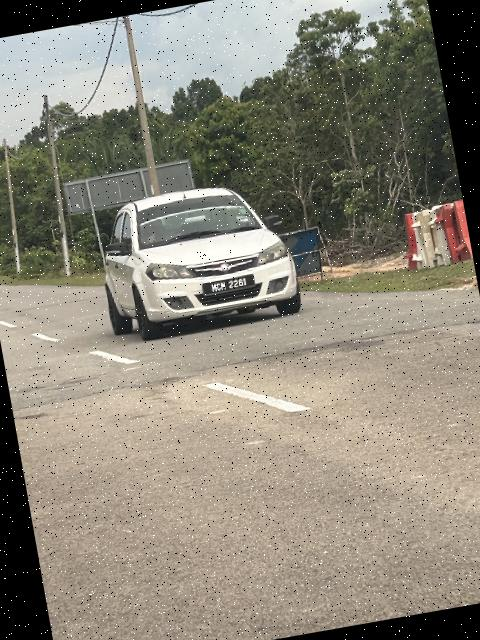License_Plate: (203, 275, 257, 296)
car: (88, 173, 307, 348)
